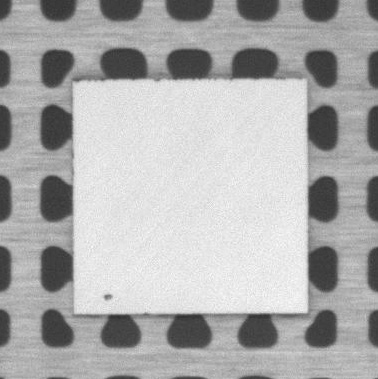DIE_INK: (102, 290, 114, 303)
